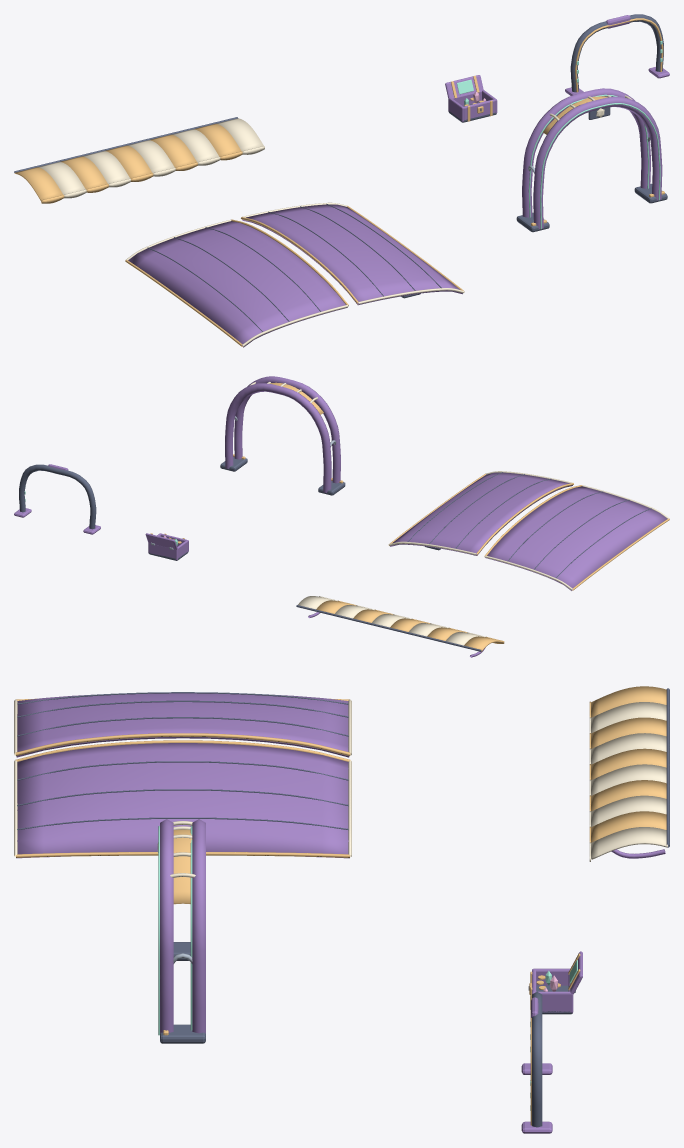
File: Architecture.fbx
3 renders of one model, top to bottom at view 1: azimuth 30°, elevation 25°; view 2: azimuth 150°, elevation 25°; view 3: azimuth 270°, elevation 25°, orthographic. The views are drawn at different scales.
Visible parts, largest first — view 1: MoonRoof__plum, ReceptionPortico__plum, CafeAwning__orange, CafeAwning__cream, MoonRoof__orange, TreasureChest__plum, MoonRoof__ink, MoonRoof__cream, ReceptionPortico__mint, TrainingGate__ink, ReceptionPortico__ink, CafeAwning__ink; view 2: MoonRoof__plum, ReceptionPortico__plum, CafeAwning__orange, CafeAwning__cream, MoonRoof__orange, TrainingGate__ink, MoonRoof__ink, MoonRoof__cream, TreasureChest__plum, CafeAwning__ink; view 3: MoonRoof__plum, CafeAwning__cream, CafeAwning__orange, ReceptionPortico__plum, MoonRoof__ink, MoonRoof__orange, TreasureChest__plum, TrainingGate__ink, ReceptionPortico__orange, MoonRoof__cream, ReceptionPortico__mint, ReceptionPortico__ink (+1 smaller).
Part boxes in pixels (left/top/right/bottom): MoonRoof__plum: left=128, top=204, right=462, bottom=347; ReceptionPortico__plum: left=522, top=88, right=662, bottom=229; CafeAwning__orange: left=14, top=123, right=242, bottom=203; CafeAwning__cream: left=38, top=118, right=264, bottom=198; MoonRoof__orange: left=125, top=206, right=464, bottom=346; TreasureChest__plum: left=445, top=75, right=497, bottom=121; MoonRoof__ink: left=147, top=203, right=441, bottom=331; MoonRoof__cream: left=126, top=202, right=464, bottom=346; ReceptionPortico__mint: left=528, top=94, right=660, bottom=229; TrainingGate__ink: left=570, top=14, right=663, bottom=92; ReceptionPortico__ink: left=516, top=107, right=667, bottom=232; CafeAwning__ink: left=14, top=117, right=237, bottom=172; MoonRoof__plum: left=390, top=472, right=667, bottom=590; ReceptionPortico__plum: left=225, top=376, right=340, bottom=492; CafeAwning__orange: left=316, top=600, right=504, bottom=651; CafeAwning__cream: left=298, top=596, right=485, bottom=645; MoonRoof__orange: left=388, top=474, right=669, bottom=590; TrainingGate__ink: left=19, top=464, right=96, bottom=529; MoonRoof__ink: left=407, top=472, right=651, bottom=577; MoonRoof__cream: left=389, top=471, right=668, bottom=590; TreasureChest__plum: left=145, top=533, right=188, bottom=560; CafeAwning__ink: left=296, top=605, right=481, bottom=651; MoonRoof__plum: left=16, top=693, right=349, bottom=858; CafeAwning__cream: left=589, top=702, right=667, bottom=861; CafeAwning__orange: left=589, top=686, right=666, bottom=842; ReceptionPortico__plum: left=160, top=819, right=205, bottom=1033; MoonRoof__ink: left=17, top=692, right=348, bottom=829; MoonRoof__orange: left=15, top=698, right=350, bottom=857; TreasureChest__plum: left=532, top=951, right=582, bottom=1013; TrainingGate__ink: left=532, top=991, right=542, bottom=1127; ReceptionPortico__orange: left=163, top=829, right=192, bottom=1035; MoonRoof__cream: left=14, top=699, right=351, bottom=857; ReceptionPortico__mint: left=158, top=826, right=192, bottom=1035; ReceptionPortico__ink: left=160, top=942, right=205, bottom=1043.
Bounding box in the file's own units: 6519 × 1195 × 4259.
